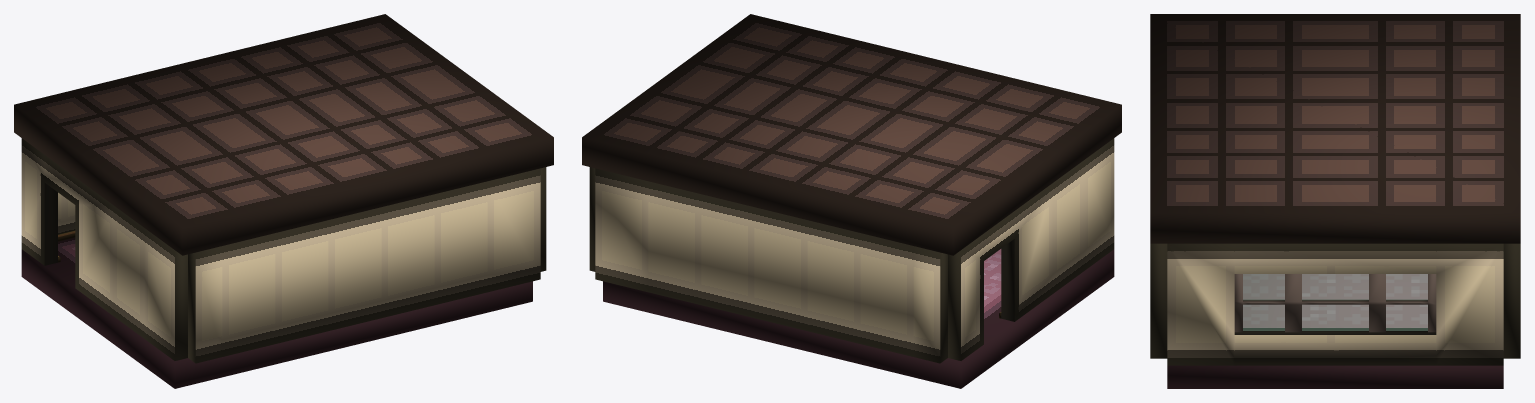
Rendered from BrainCell-VP-02.glb.
The picture shows the model from 3 angles, left to right: view 1: azimuth 30°, elevation 25°; view 2: azimuth 150°, elevation 25°; view 3: azimuth 270°, elevation 25°; orthographic projection. The views are drawn at different scales.
Visible parts, largest first — view 1: Ceiling, WallLeft, WallFoward, Floor, WallBack, WallRight; view 2: Ceiling, WallRight, WallFoward, Floor, WallBack; view 3: Ceiling, WallBack, Floor, WindowFrame, WallRight, WallLeft, GlassPane4, GlassPane5, GlassPane, GlassPane2, GlassPane6, GlassPane3.
Boxes of the visible parts, box(x1,y1,x2,y2) form: Ceiling: box(14, 14, 553, 255); WallLeft: box(188, 168, 540, 363); WallFoward: box(21, 138, 187, 360); Floor: box(21, 237, 532, 388); WallBack: box(540, 167, 546, 271); WallRight: box(58, 192, 75, 234); Ceiling: box(582, 14, 1121, 255); WallRight: box(595, 168, 947, 363); WallFoward: box(948, 138, 1114, 360); Floor: box(603, 249, 1114, 388); WallBack: box(589, 167, 595, 271); Ceiling: box(1150, 14, 1520, 243); WallBack: box(1167, 243, 1503, 365); Floor: box(1167, 274, 1503, 388); WindowFrame: box(1234, 274, 1436, 332); WallRight: box(1503, 243, 1520, 358); WallLeft: box(1150, 243, 1167, 358); GlassPane4: box(1302, 274, 1368, 300); GlassPane5: box(1302, 304, 1368, 330); GlassPane: box(1386, 304, 1427, 330); GlassPane2: box(1243, 274, 1284, 300); GlassPane6: box(1243, 304, 1284, 330); GlassPane3: box(1386, 274, 1427, 300).
Size of what is drawn, in the model's own units: 28 by 12 by 22.
12 materials, 11 textured.
